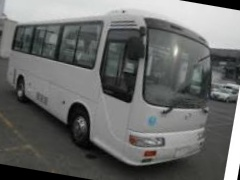bus: (0, 0, 223, 176)
